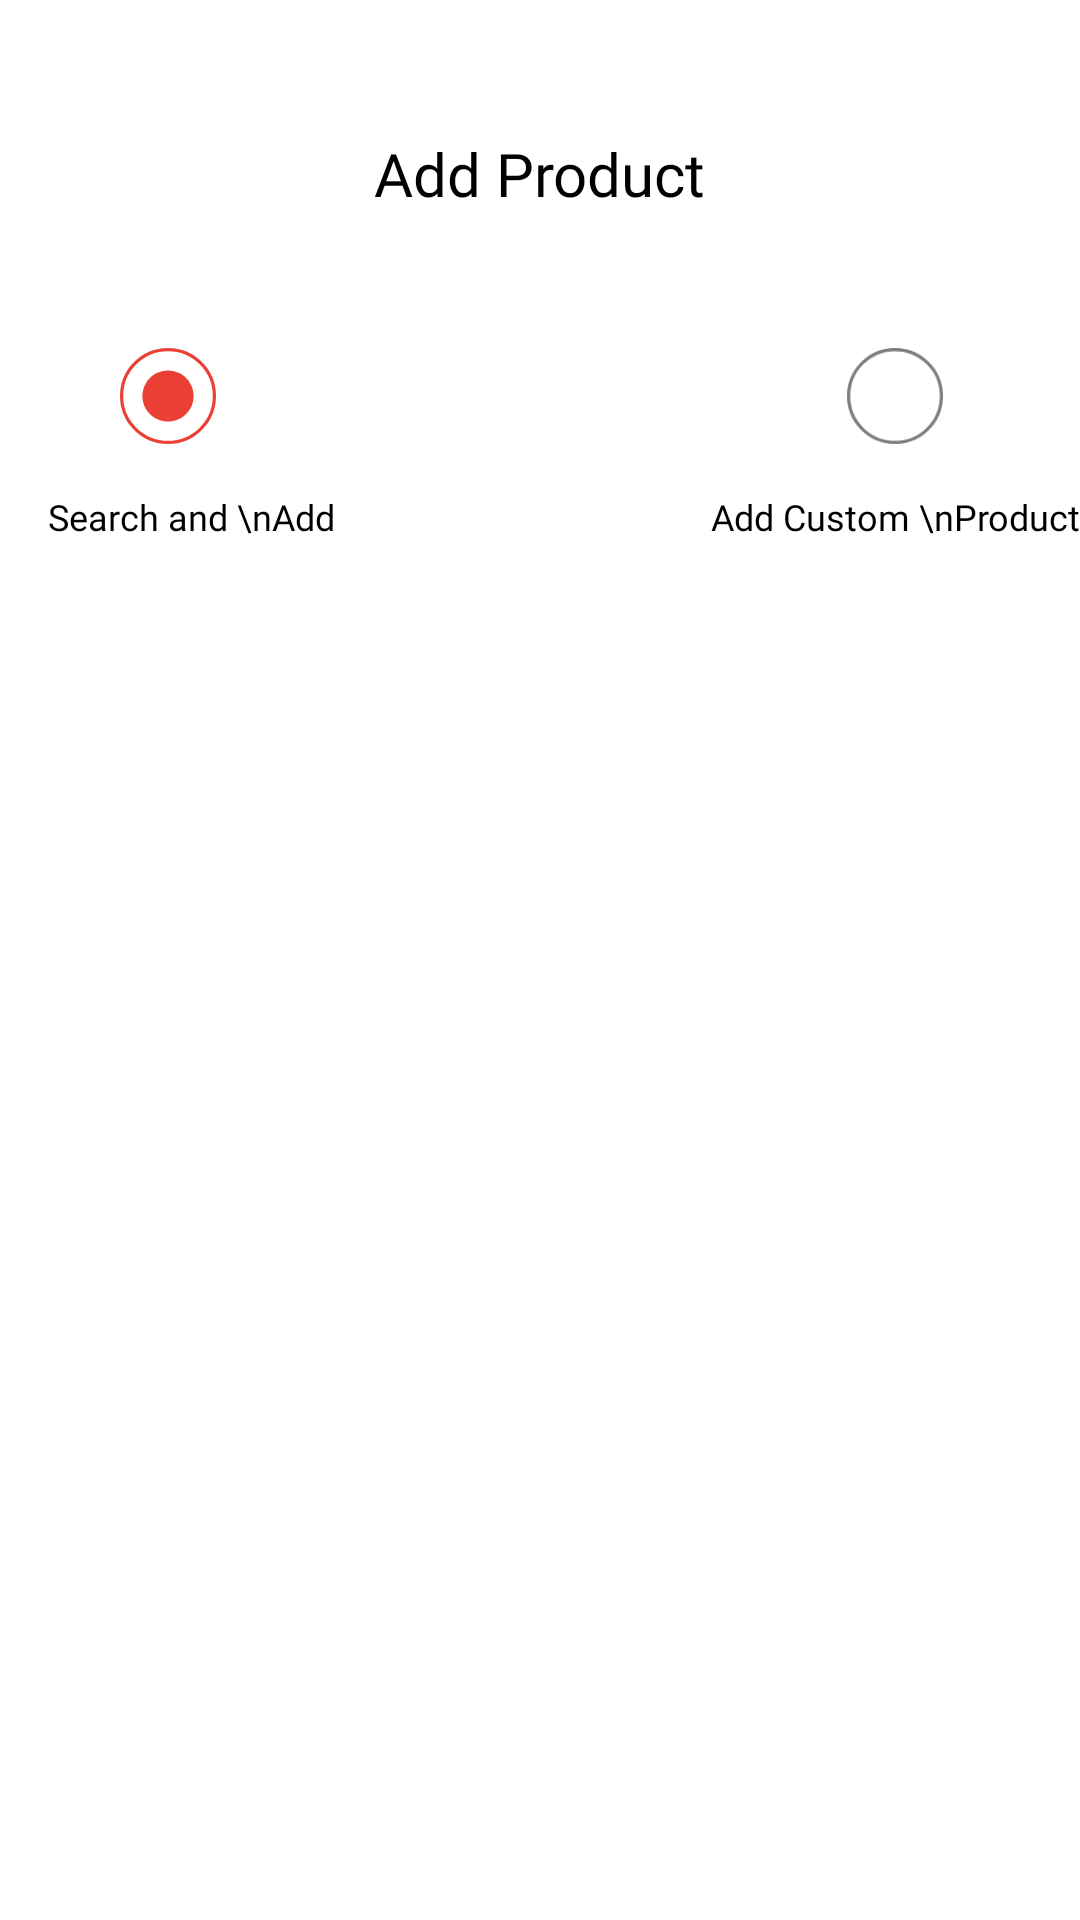

Screen size 1080 × 1920. Icon name, then its box in pixels as (x1=x1, y1=y1, x2=x2, y2=y2):
process: (x1=120, y1=348, x2=216, y2=444)
